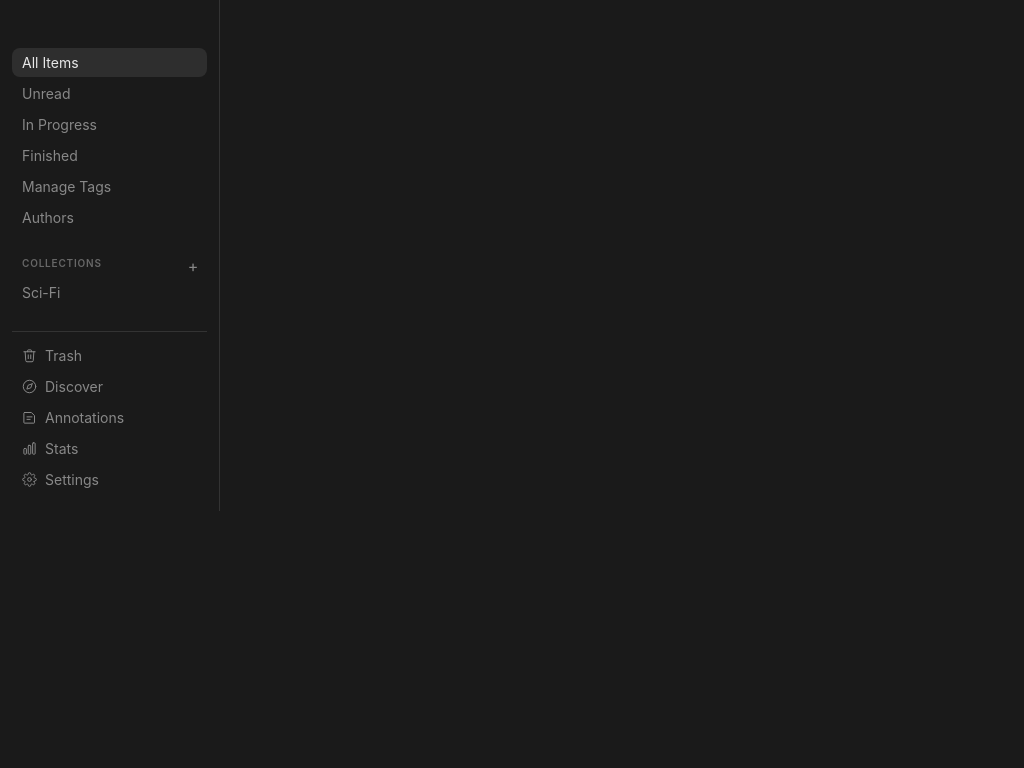
Scenario: Sidebar — collections CRUD › closes the context menu on an outside click
The image size is (1024, 768).
Right-click the text "Sci-Fi": (41, 292) left=22, top=284, right=60, bottom=301
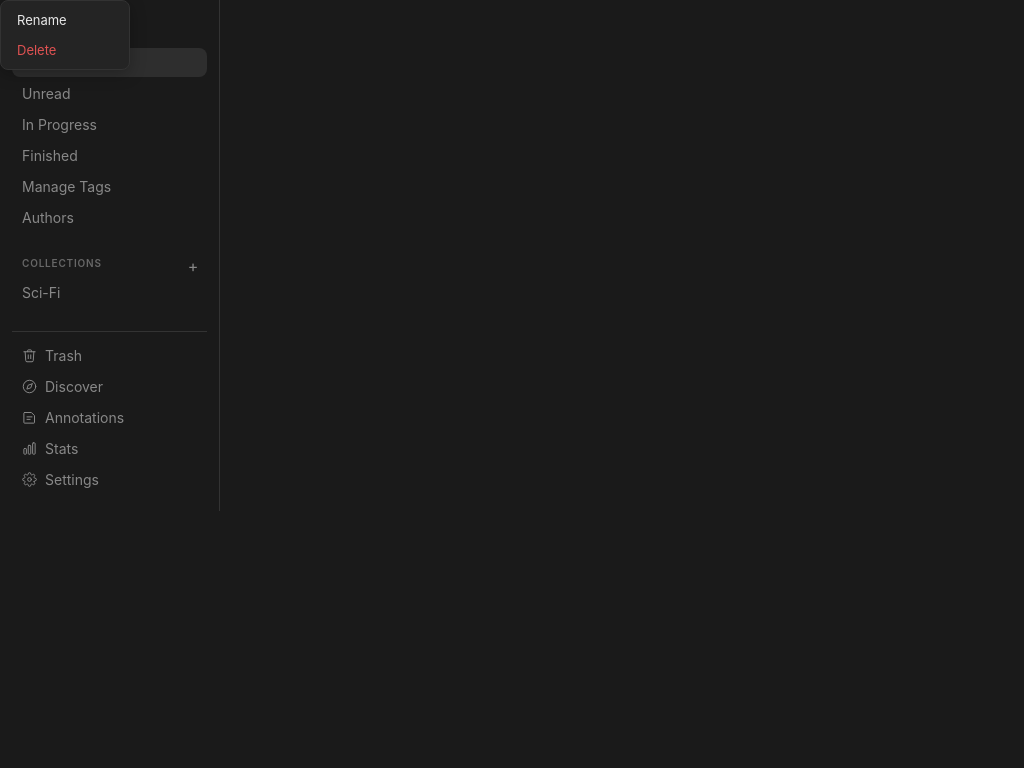
Result: the button "Rename" is shown at left=5, top=5, right=125, bottom=35
Press the mouse on the element that starts with "All Items": (512, 384) left=0, top=0, right=1023, bottom=767
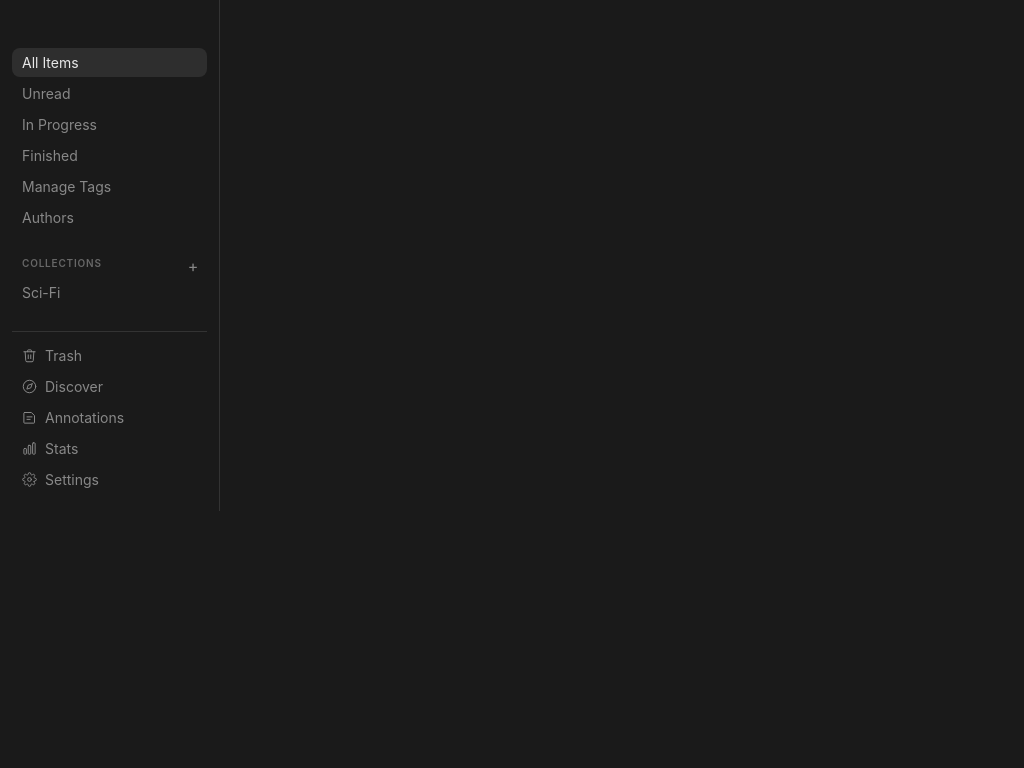
Result: the button "Rename" is gone
